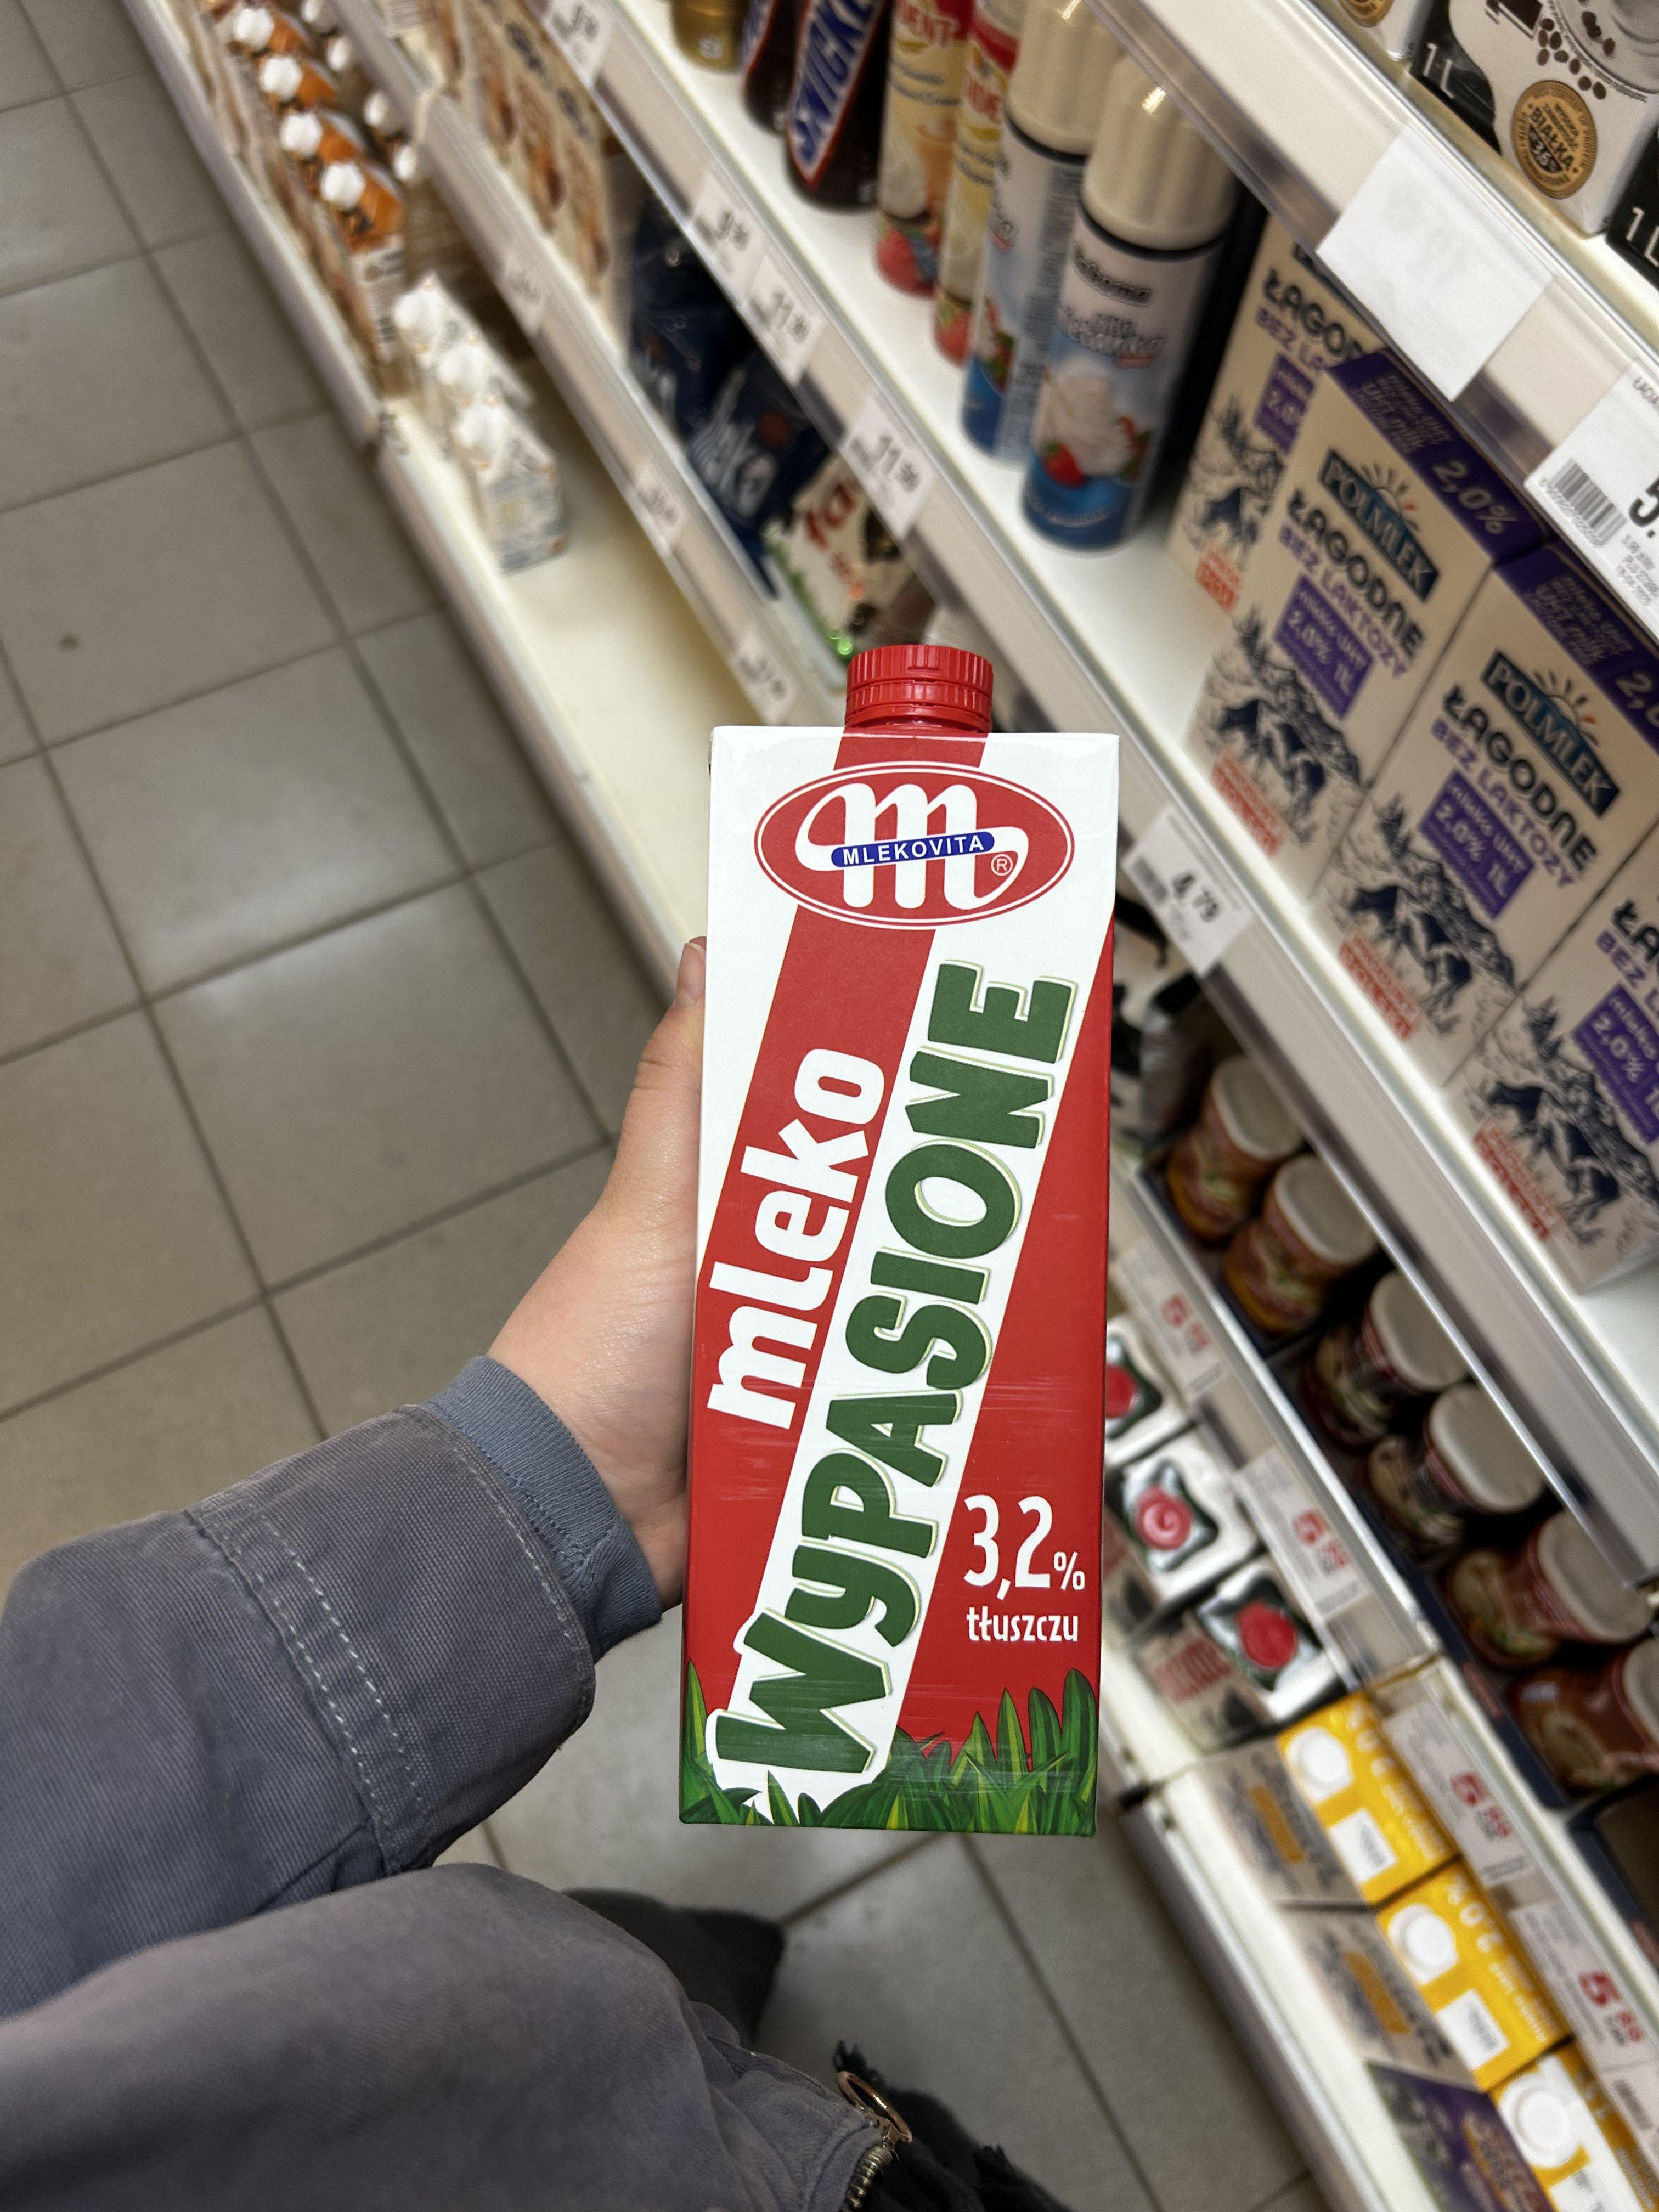Milk: (660, 639, 1112, 1853)
